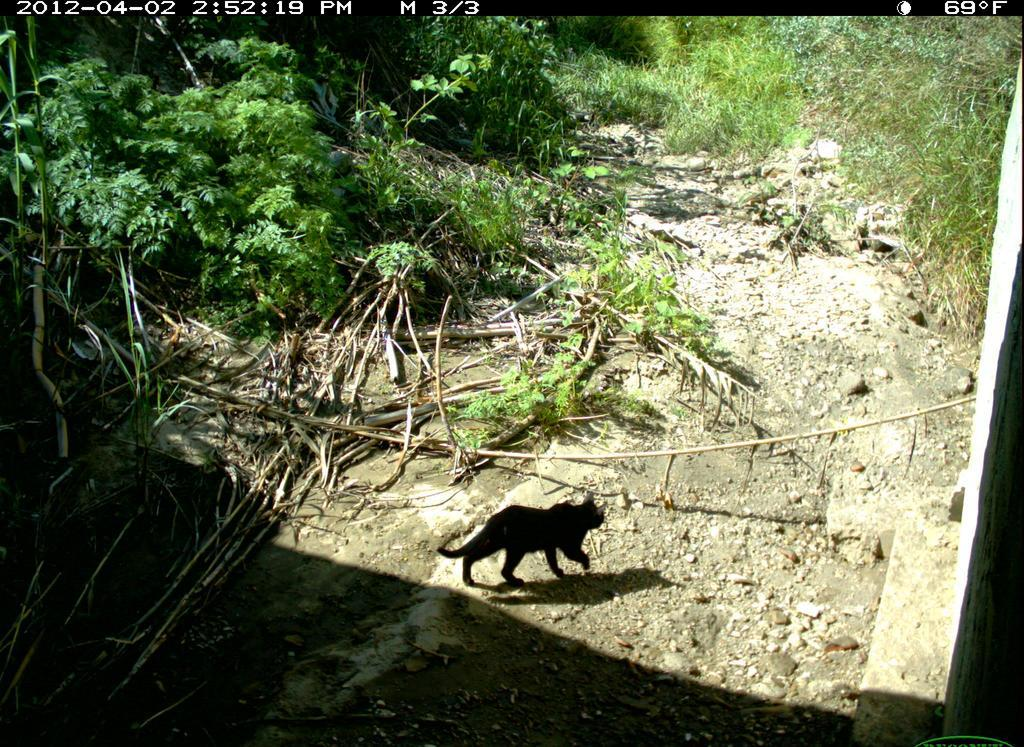cat: (436, 489, 615, 593)
